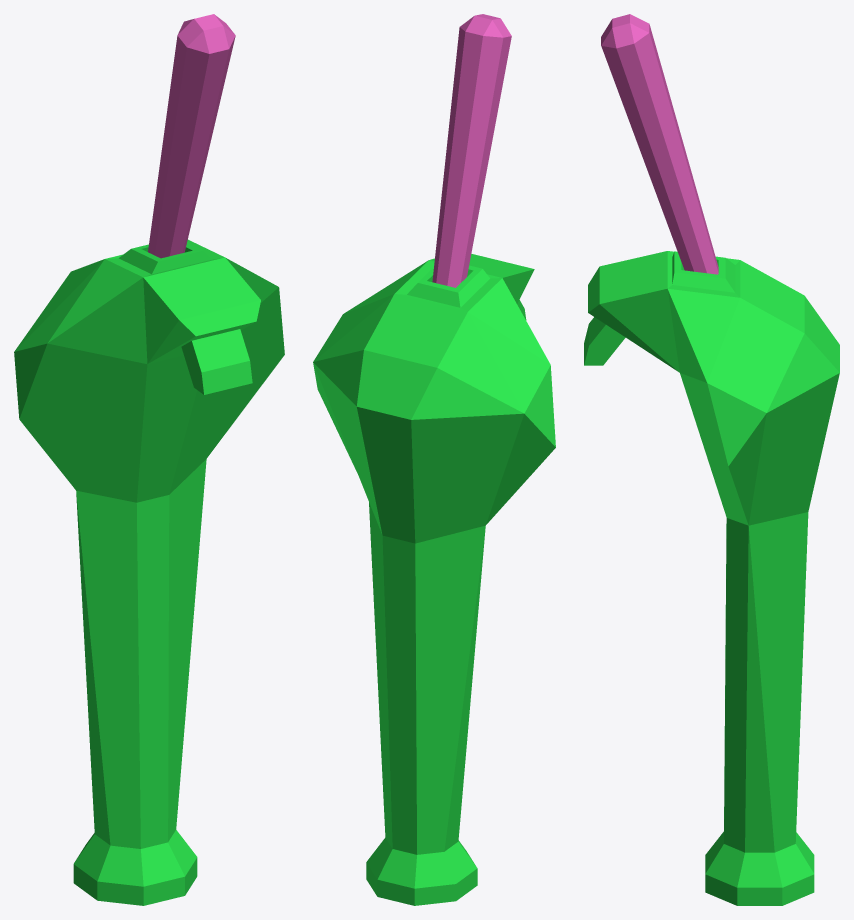
File: Beer_Tabs_01.fbx
3 views of the same model, side by side, from view 1: azimuth 30°, elevation 25°; view 2: azimuth 150°, elevation 25°; view 3: azimuth 270°, elevation 25° (orthographic). The views are drawn at different scales.
Parts seen in each view (by area): view 1: Beer_Tabs_01, Beer_Tabs_01_Handle; view 2: Beer_Tabs_01, Beer_Tabs_01_Handle; view 3: Beer_Tabs_01, Beer_Tabs_01_Handle.
Part boxes in pixels (x1=…): Beer_Tabs_01: x1=14, y1=239, x2=284, y2=905; Beer_Tabs_01_Handle: x1=148, y1=14, x2=235, y2=258; Beer_Tabs_01: x1=313, y1=253, x2=555, y2=905; Beer_Tabs_01_Handle: x1=432, y1=14, x2=511, y2=287; Beer_Tabs_01: x1=584, y1=251, x2=839, y2=905; Beer_Tabs_01_Handle: x1=601, y1=14, x2=718, y2=274.
Bounding box in the file's own units: 20.41 × 67.08 × 18.
